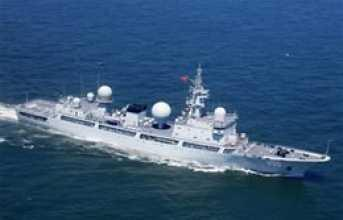warship: (16, 59, 330, 170)
